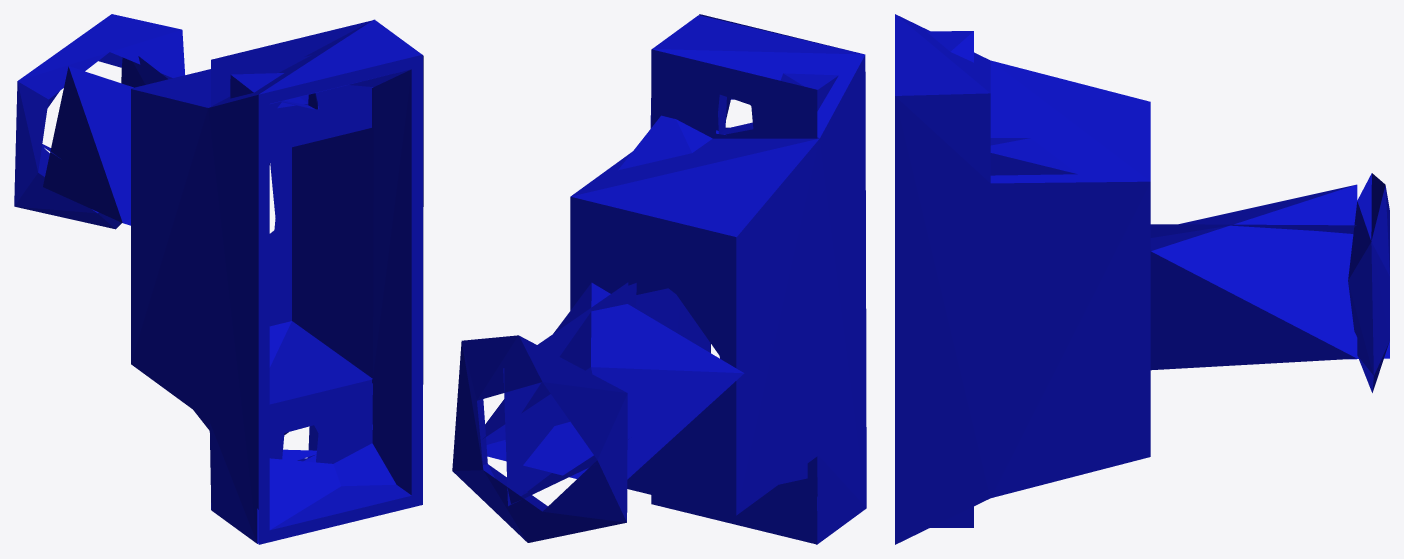
File: front_right_steer_116.dae
3 views of the same model, side by side, from view 1: azimuth 30°, elevation 25°; view 2: azimuth 150°, elevation 25°; view 3: azimuth 270°, elevation 25° (orthographic).
Visible parts, largest first — view 1: node; view 2: node; view 3: node.
Part boxes in pixels (x1=…): node: x1=14, y1=14, x2=423, y2=544; node: x1=452, y1=14, x2=866, y2=544; node: x1=895, y1=14, x2=1389, y2=544.
Size of the model in its own units: 0.0096 by 0.0231 by 0.0233.
